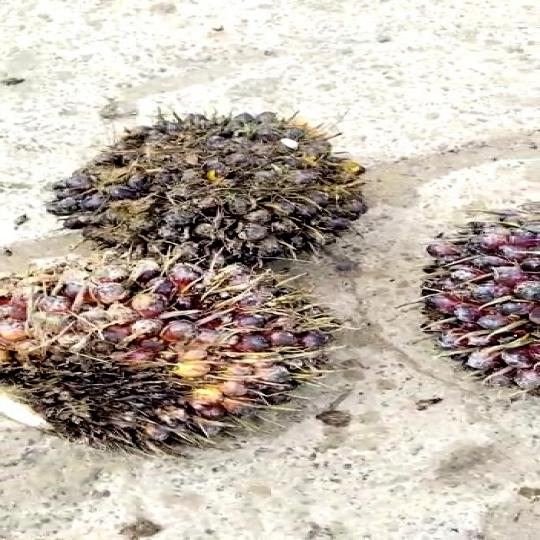kurang masak: (5, 238, 338, 459), (50, 124, 379, 278), (409, 201, 540, 403)
